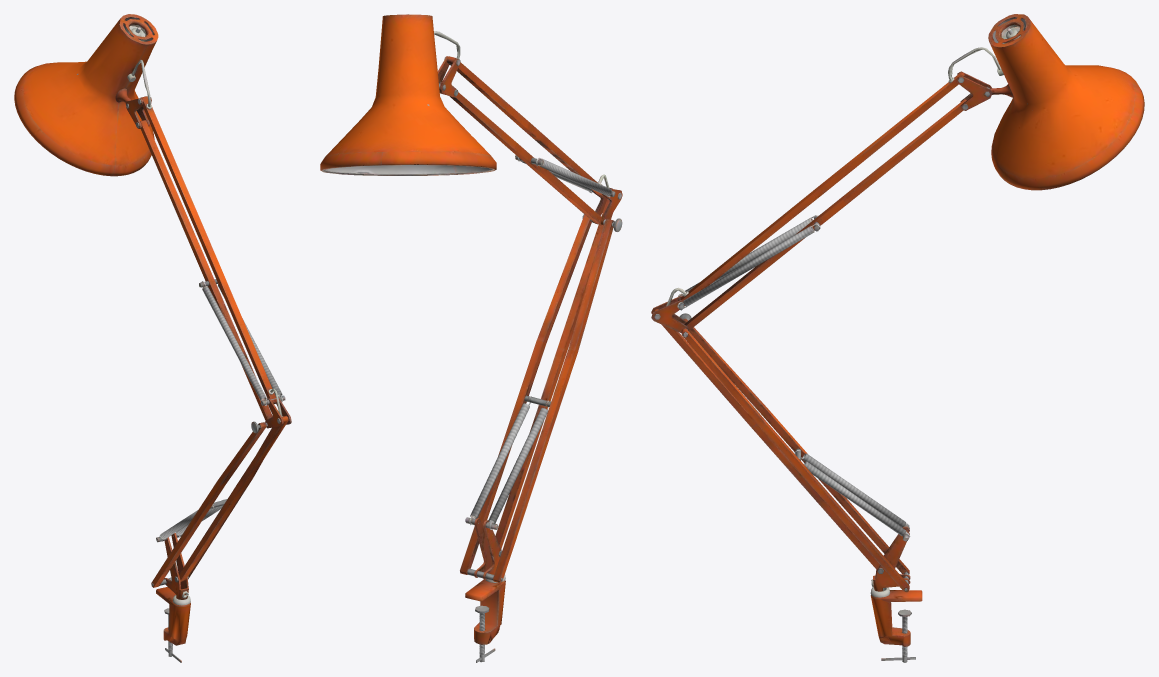
The model's file is desk_lamp_arm_01.glb.
The picture shows the model from 3 angles, left to right: view 1: azimuth 30°, elevation 25°; view 2: azimuth 150°, elevation 25°; view 3: azimuth 270°, elevation 25°; orthographic projection. The views are drawn at different scales.
Visible parts, largest first — view 1: desk_lamp_arm_01; view 2: desk_lamp_arm_01; view 3: desk_lamp_arm_01.
Boxes of the visible parts, bbox=[...] form: desk_lamp_arm_01: bbox=[14, 14, 291, 662]; desk_lamp_arm_01: bbox=[320, 14, 622, 662]; desk_lamp_arm_01: bbox=[651, 14, 1144, 662].
Bounding box in the file's own units: 0.2017 × 0.8926 × 0.6139.
Materials: 2 (2 with a texture image).
